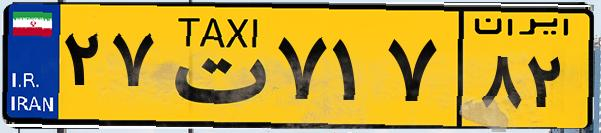1: (330, 28, 385, 110)
2: (57, 26, 110, 100), (525, 38, 570, 115)
7: (270, 28, 330, 110), (385, 28, 445, 110), (110, 28, 158, 98)
8: (475, 38, 525, 113)
ت: (158, 12, 270, 120)
